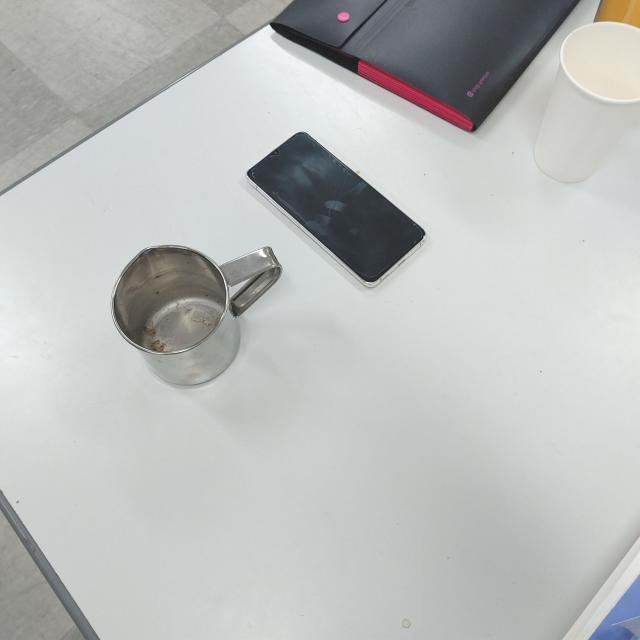cup: (109, 242, 283, 390)
phone: (247, 131, 425, 288)
